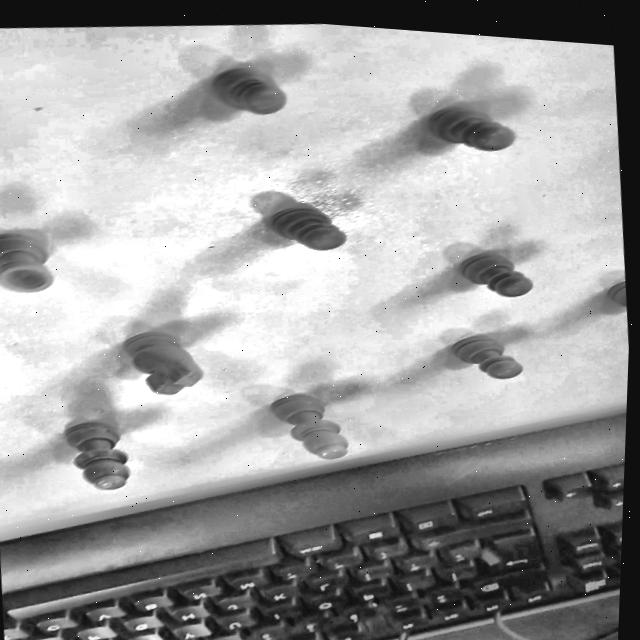white-bishop: (269, 393, 346, 457), (64, 420, 128, 488)
white-knight: (123, 331, 200, 393)
white-pawn: (251, 191, 343, 249), (425, 104, 513, 149), (209, 66, 285, 113), (457, 252, 531, 295), (450, 334, 521, 377)
white-rook: (0, 232, 51, 291)
